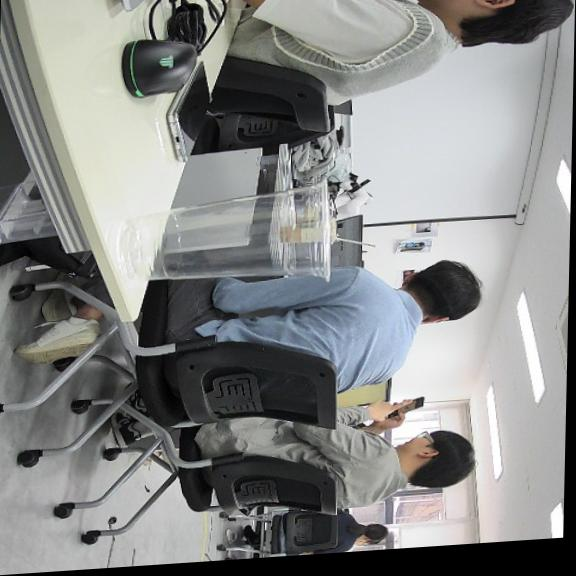Plastik: (118, 185, 329, 281)
